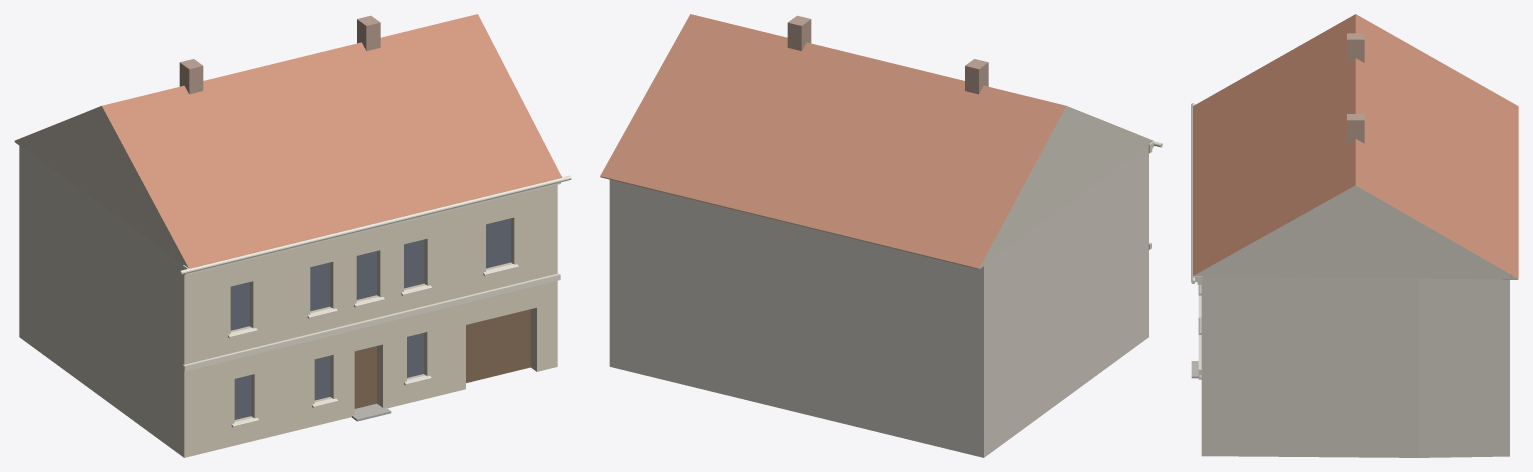
3 views of the same model, side by side, from view 1: azimuth 30°, elevation 25°; view 2: azimuth 150°, elevation 25°; view 3: azimuth 270°, elevation 25° (orthographic). The views are drawn at different scales.
Parts seen in each view (by area): view 1: CP_719_Masonry, CP_719_Roof, CP_719_Gable_L_gable, CP_719_Cornice_string_0, CP_719_Gutter, CP_719_Cornice_main_0, CP_719_Chimney_0, CP_719_Chimney_1; view 2: CP_719_Masonry, CP_719_Roof, CP_719_Gable_L_gable, CP_719_Chimney_1, CP_719_Chimney_0, CP_719_Roof_EaveClosure_1; view 3: CP_719_Masonry, CP_719_Roof, CP_719_Gable_R_gable, CP_719_Chimney_0, CP_719_Chimney_1, CP_719_Gutter.
Part boxes in pixels (<box>): CP_719_Masonry: <box>19,145,557,457</box>; CP_719_Roof: <box>102,14,561,268</box>; CP_719_Gable_L_gable: <box>14,106,194,268</box>; CP_719_Cornice_string_0: <box>183,273,560,371</box>; CP_719_Gutter: <box>179,175,571,274</box>; CP_719_Cornice_main_0: <box>183,176,563,275</box>; CP_719_Chimney_0: <box>179,59,203,94</box>; CP_719_Chimney_1: <box>357,15,380,51</box>; CP_719_Masonry: <box>609,145,1148,457</box>; CP_719_Roof: <box>600,14,1065,268</box>; CP_719_Gable_L_gable: <box>972,106,1153,268</box>; CP_719_Chimney_1: <box>787,15,811,51</box>; CP_719_Chimney_0: <box>965,59,988,94</box>; CP_719_Roof_EaveClosure_1: <box>600,176,983,269</box>; CP_719_Masonry: <box>1201,276,1509,457</box>; CP_719_Roof: <box>1193,14,1518,278</box>; CP_719_Gable_R_gable: <box>1193,185,1518,279</box>; CP_719_Chimney_0: <box>1347,33,1364,62</box>; CP_719_Chimney_1: <box>1347,114,1364,143</box>; CP_719_Gutter: <box>1191,103,1195,283</box>.
Size of the model in its own units: 16.5 by 12.62 by 12.86.
